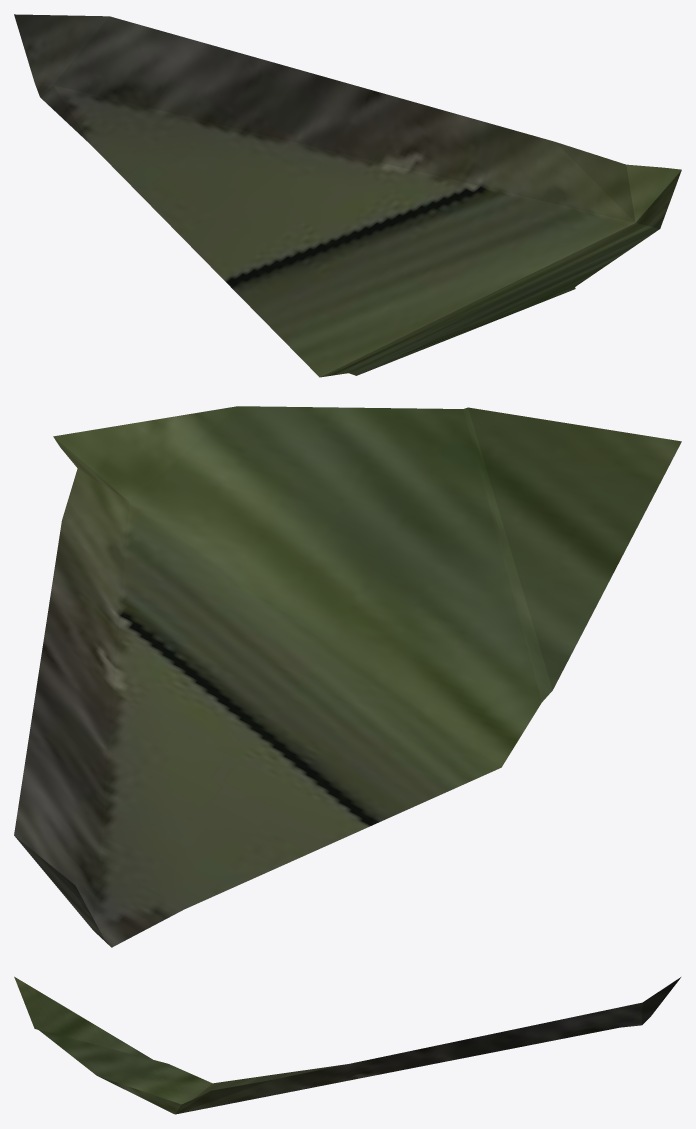
3 views of the same model, one above another, from view 1: azimuth 30°, elevation 25°; view 2: azimuth 150°, elevation 25°; view 3: azimuth 270°, elevation 25° (orthographic). The views are drawn at different scales.
Bounding box in the file's own units: 0.8476 × 0.3299 × 1.87.
Materials: 1 (1 with a texture image).
